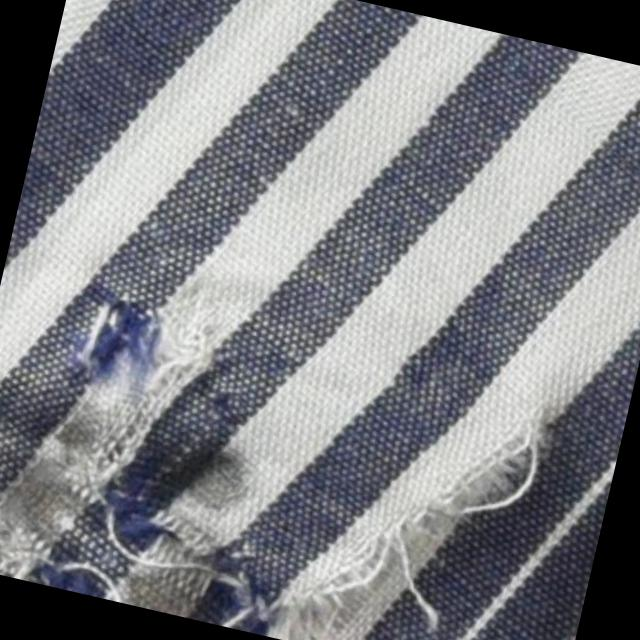cut: (25, 286, 250, 578), (281, 387, 538, 640)
